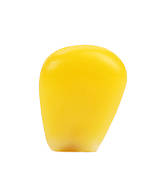corn: (38, 46, 128, 153)
